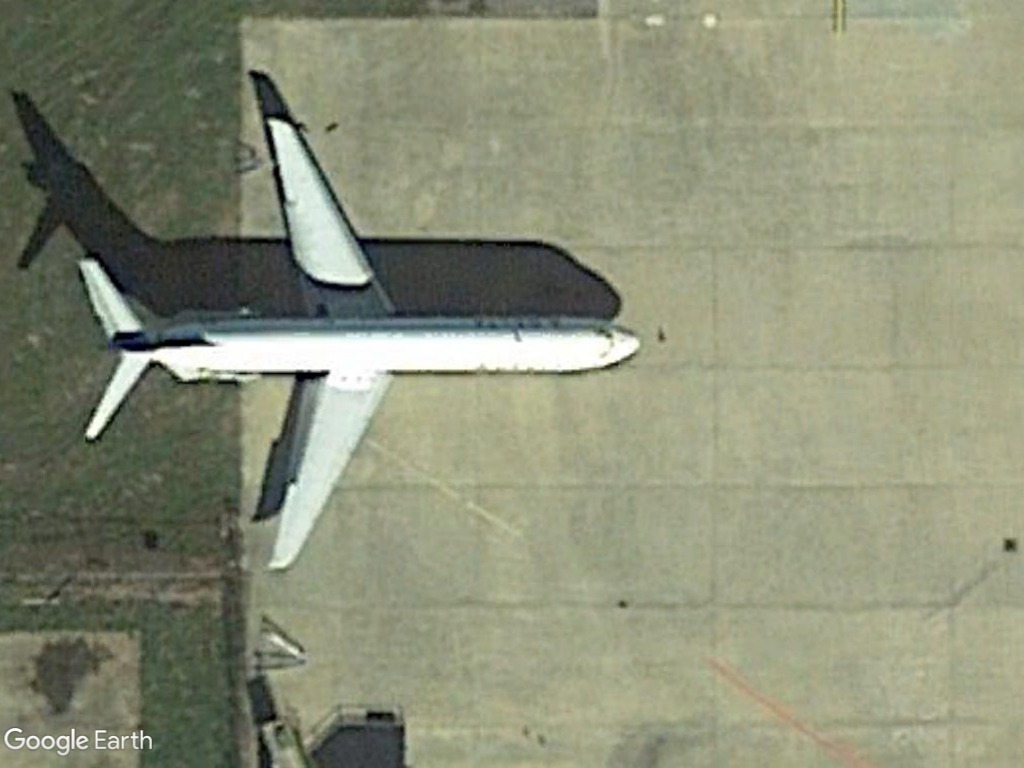airliner: (51, 107, 660, 570)
